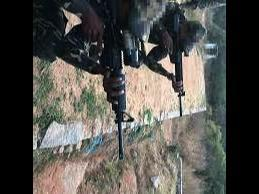gun: (93, 0, 137, 158), (168, 14, 185, 118)
